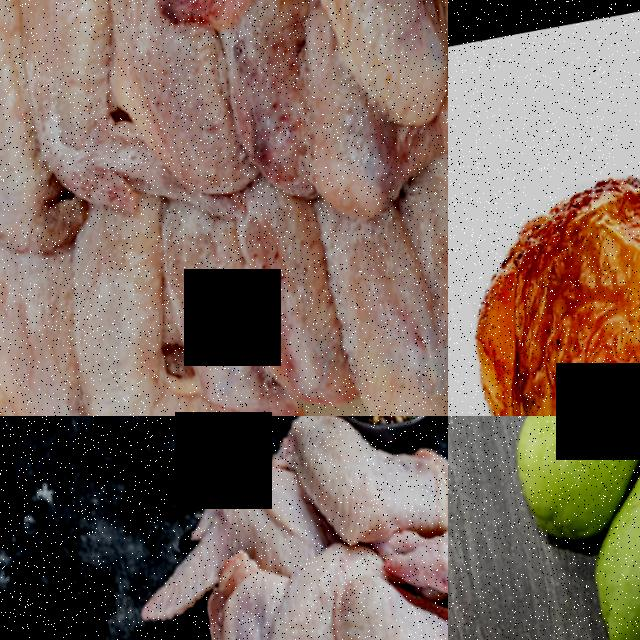chayote: (476, 416, 640, 503), (575, 430, 640, 640)
chicken thigh: (448, 76, 640, 416)
chicken wing: (139, 0, 448, 152), (108, 446, 334, 630), (232, 541, 448, 640)
